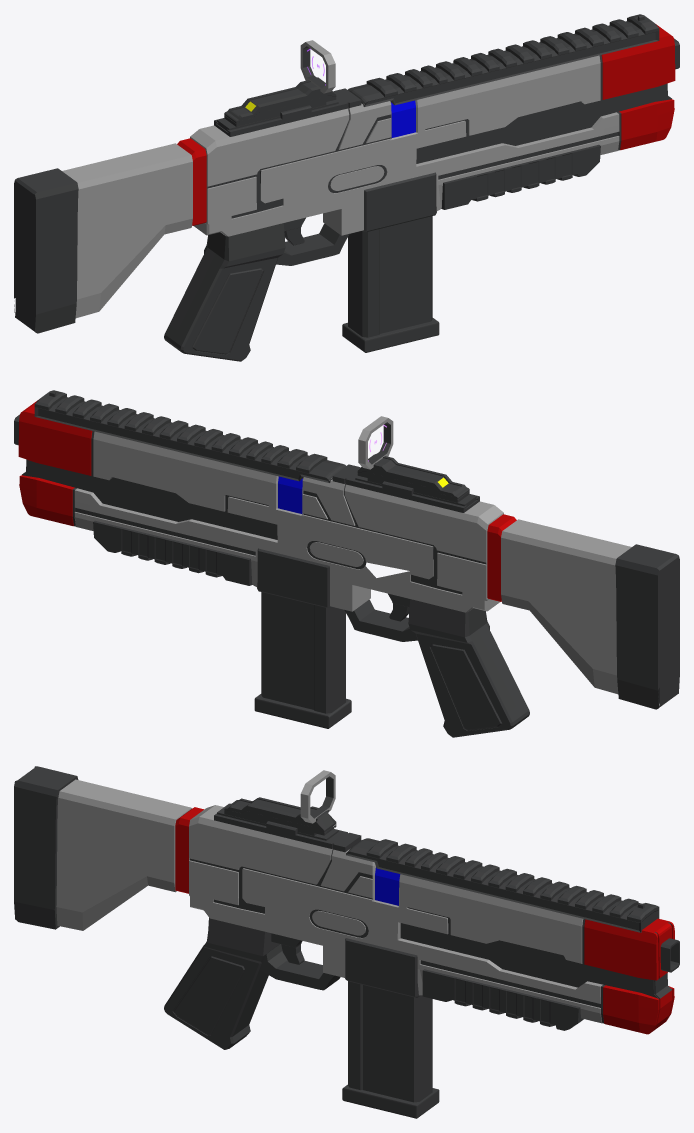
Rendered from Scifi Rifle.glb.
3 renders of one model, top to bottom at view 1: azimuth 30°, elevation 25°; view 2: azimuth 150°, elevation 25°; view 3: azimuth 330°, elevation 25°, orthographic.
Visible parts, largest first — view 1: Cube, Cube.001, Cube.002, Cube.003, Cube.007, Cube.005, Circle; view 2: Cube, Cube.001, Cube.002, Cube.003, Cube.007, Cube.005, Circle; view 3: Cube, Cube.001, Cube.002, Cube.003, Cube.007, Cube.005, Circle, Cube.004.
Boxes of the visible parts, <box> form: Cube: <box>14,24,675,361</box>; Cube.001: <box>342,172,439,352</box>; Cube.002: <box>348,14,659,106</box>; Cube.003: <box>441,144,600,209</box>; Cube.007: <box>224,77,336,126</box>; Cube.005: <box>214,88,361,136</box>; Circle: <box>300,40,335,93</box>; Cube: <box>18,400,679,737</box>; Cube.001: <box>254,548,351,728</box>; Cube.002: <box>34,390,345,482</box>; Cube.003: <box>93,520,252,585</box>; Cube.007: <box>357,454,469,502</box>; Cube.005: <box>332,464,479,512</box>; Circle: <box>358,416,393,469</box>; Cube: <box>14,766,674,1049</box>; Cube.001: <box>342,938,439,1118</box>; Cube.002: <box>346,838,659,932</box>; Cube.003: <box>422,969,583,1030</box>; Cube.007: <box>224,797,336,835</box>; Cube.005: <box>214,813,361,852</box>; Circle: <box>300,770,335,823</box>; Cube.004: <box>660,938,679,972</box>.
Size of the model in its own units: 4.78 by 2.15 by 0.3501.
6 materials, 1 textured.
